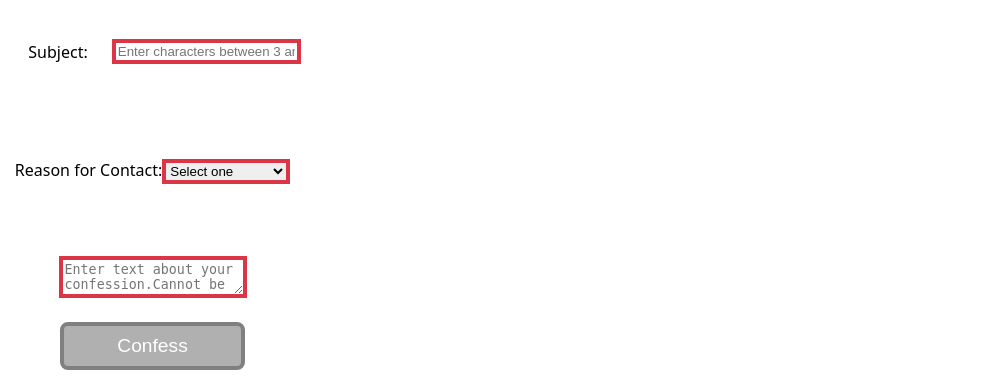
Test: Subject input validation error for wrong input
Type "abc$%" into the field with placeholder "Enter characters between 3 and 50 chars in length". click: (206, 52)
box: x1=112 y1=39 x2=301 y2=64
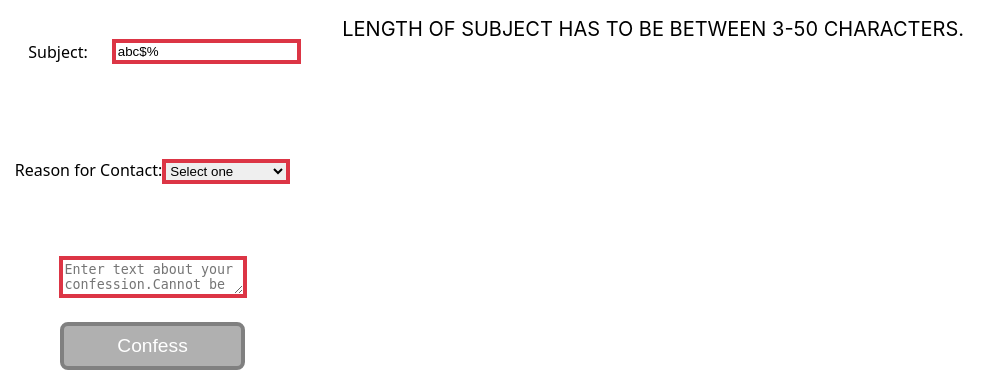
Expected: the text "Length of subject has to be between 3-50 characters." is shown, x1=342 y1=17 x2=964 y2=41
